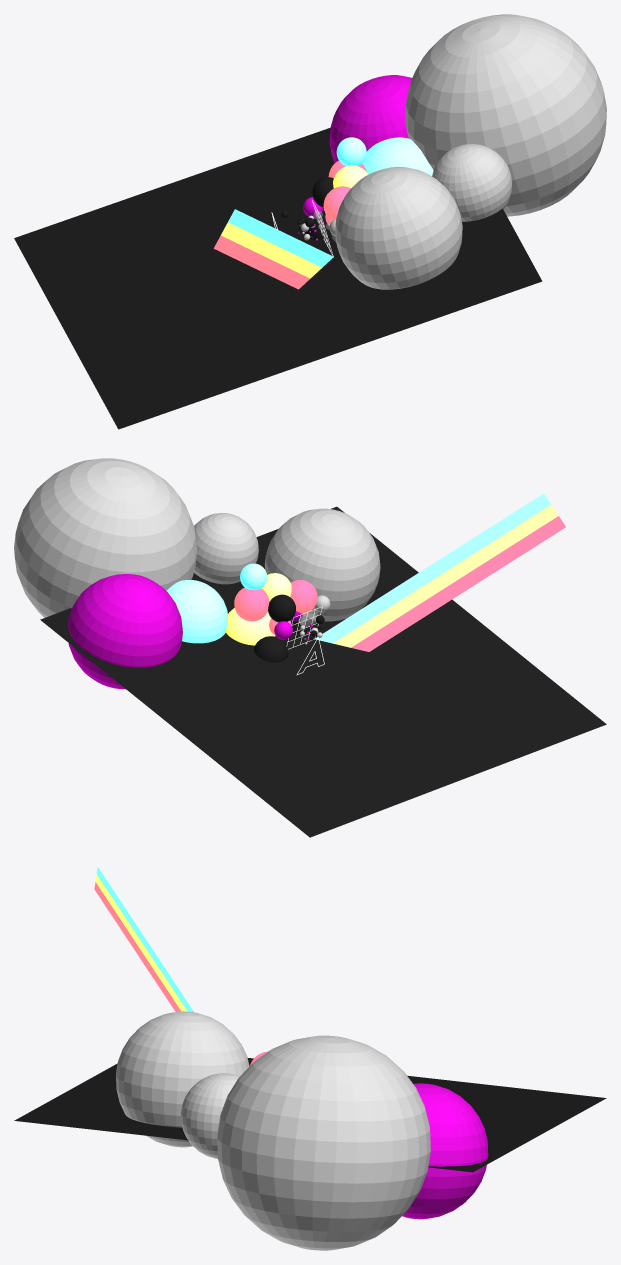
File: good_8.gltf
The picture shows the model from 3 angles, top to bottom: view 1: azimuth 30°, elevation 25°; view 2: azimuth 150°, elevation 25°; view 3: azimuth 270°, elevation 25°; orthographic projection. The views are drawn at different scales.
Visible parts, largest first — view 1: Plane, Sphere.050, Sphere.048, Sphere.049, Sphere.003, Sphere.032, Cube.023, Cube.024, Cube.025, Sphere.034, Sphere.041; view 2: Plane, Sphere.050, Sphere.049, Sphere.048, Cube.023, Sphere.003, Cube.024, Cube.025, Sphere.032, Sphere.039, Sphere.042, Sphere.043 (+4 smaller); view 3: Sphere.050, Plane, Sphere.048, Sphere.049, Sphere.003, Cube.023, Cube.024, Cube.025.
Part boxes in pixels (<box>): Plane: <box>14,127,542,429</box>; Sphere.050: <box>405,14,606,216</box>; Sphere.048: <box>335,167,462,289</box>; Sphere.049: <box>329,75,411,162</box>; Sphere.003: <box>432,144,512,221</box>; Sphere.032: <box>362,137,433,175</box>; Cube.023: <box>228,209,333,267</box>; Cube.024: <box>221,222,321,278</box>; Cube.025: <box>213,235,309,289</box>; Sphere.034: <box>336,137,366,166</box>; Sphere.041: <box>333,165,368,188</box>; Plane: <box>40,506,606,837</box>; Sphere.050: <box>14,458,197,617</box>; Sphere.049: <box>68,574,182,689</box>; Sphere.048: <box>264,508,380,621</box>; Cube.023: <box>315,493,550,643</box>; Sphere.003: <box>194,513,258,584</box>; Cube.024: <box>333,504,558,647</box>; Cube.025: <box>351,516,565,651</box>; Sphere.032: <box>166,580,227,643</box>; Sphere.039: <box>225,608,275,645</box>; Sphere.042: <box>234,587,269,621</box>; Sphere.043: <box>290,580,317,613</box>; Sphere.050: <box>217,1035,430,1250</box>; Plane: <box>14,1058,606,1172</box>; Sphere.048: <box>116,1011,249,1147</box>; Sphere.049: <box>402,1083,488,1219</box>; Sphere.003: <box>181,1073,239,1158</box>; Cube.023: <box>96,866,194,1012</box>; Cube.024: <box>95,875,187,1011</box>; Cube.025: <box>94,882,181,1011</box>.
Bounding box in the file's own units: 363 × 143 × 314.
